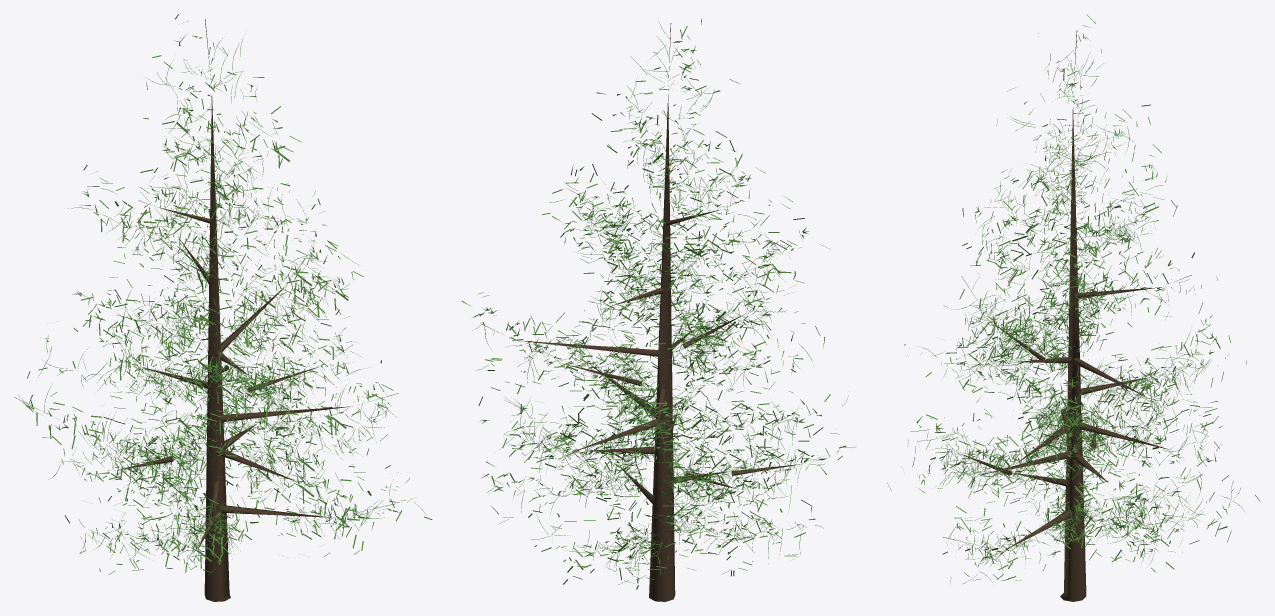
Rendered from xmas_tree.glb.
3 renders of one model, left to right at view 1: azimuth 30°, elevation 25°; view 2: azimuth 150°, elevation 25°; view 3: azimuth 270°, elevation 25°, orthographic. The views are drawn at different scales.
Visible parts, largest first — view 1: foglia 2_3462; view 2: foglia 2_3462; view 3: foglia 2_3462.
Part boxes in pixels (x1,y1,x2,y2): foglia 2_3462: (14, 14, 432, 601); foglia 2_3462: (461, 18, 856, 601); foglia 2_3462: (887, 14, 1260, 601).
Size of the model in its own units: 2.68 by 4.67 by 2.79.
